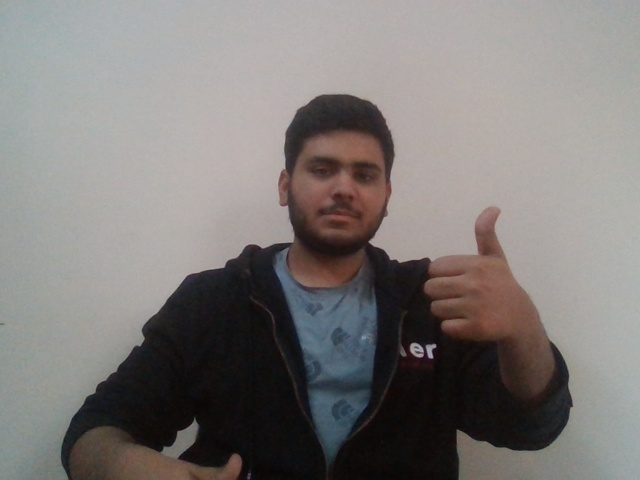Yes: (412, 194, 540, 345)
